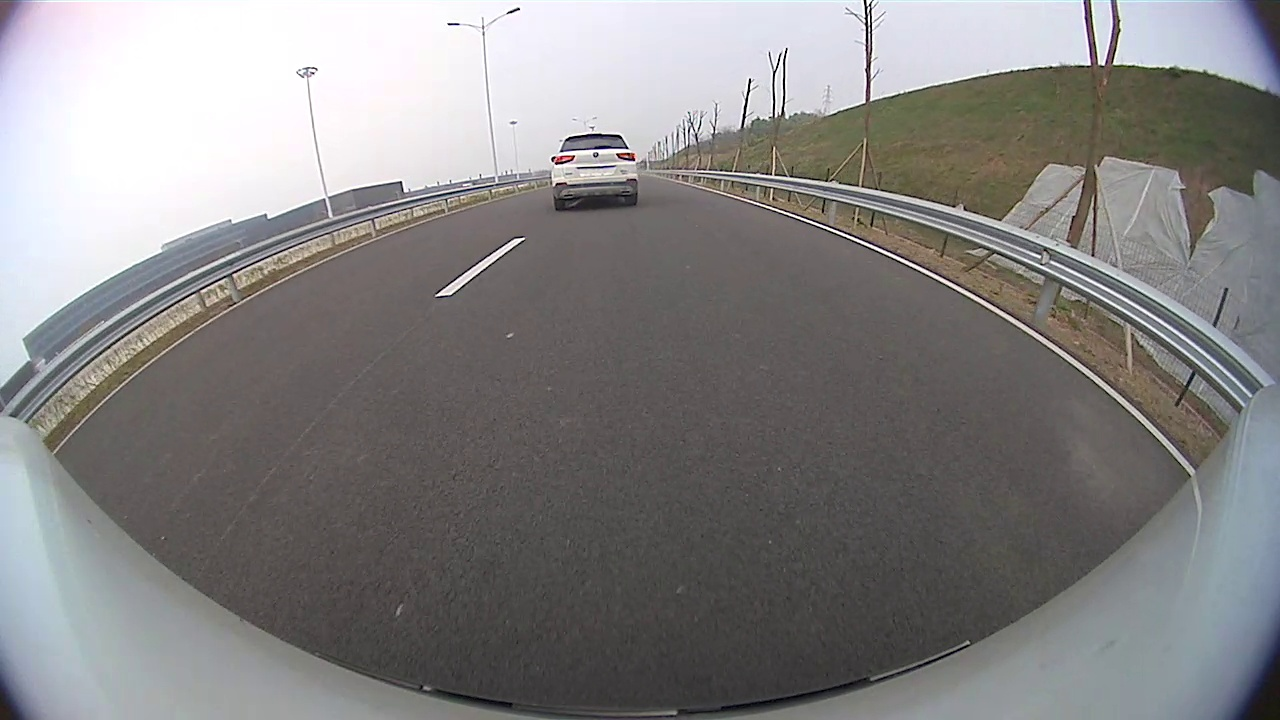car: (550, 130, 642, 211)
